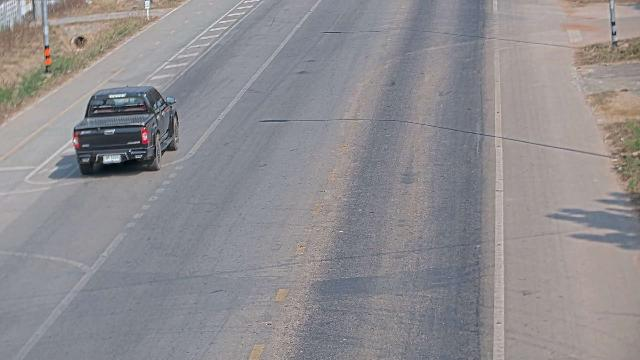pickup-truck: (72, 84, 179, 175)
